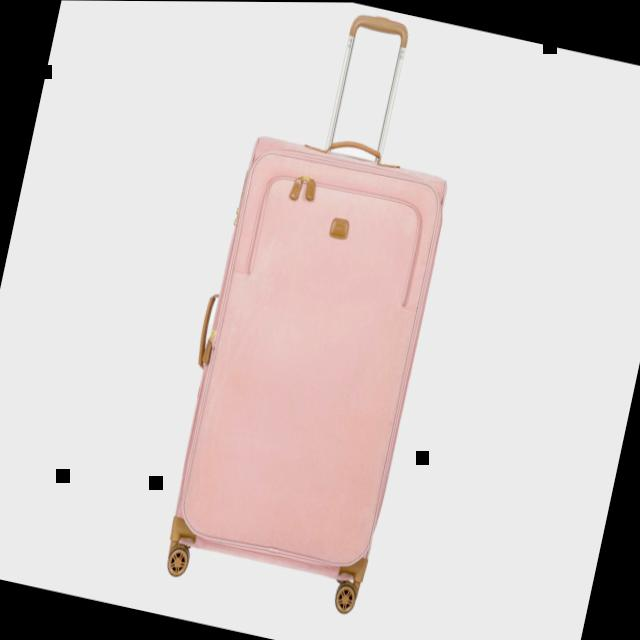luggage: (148, 108, 464, 621)
